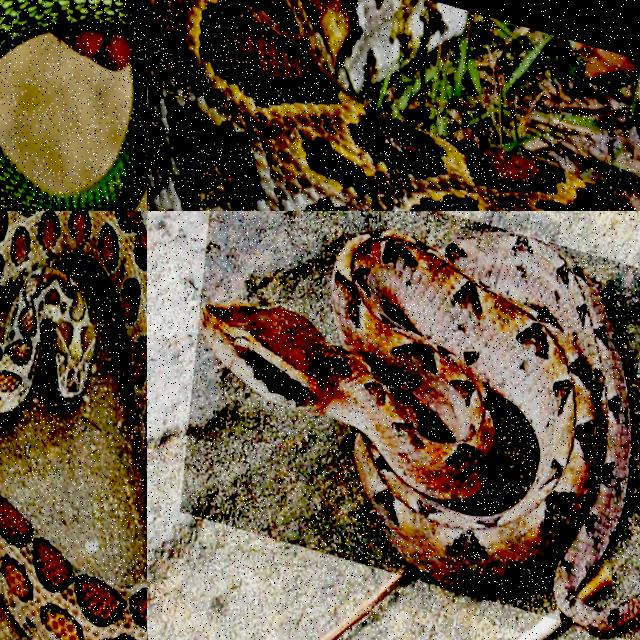Calloselasma rhodostoma: (200, 230, 639, 632)
Chrysopelea ornata: (0, 0, 146, 210)
Daboia siamensis: (0, 211, 146, 474)
Python bivittatus: (147, 0, 633, 210)
